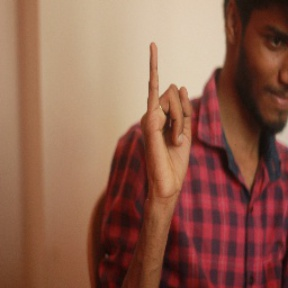I: (139, 40, 199, 197)
